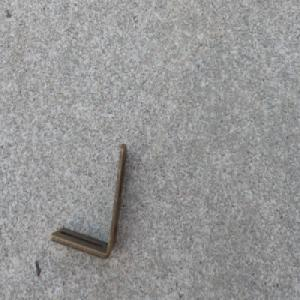MetalPart: (49, 142, 128, 260)
